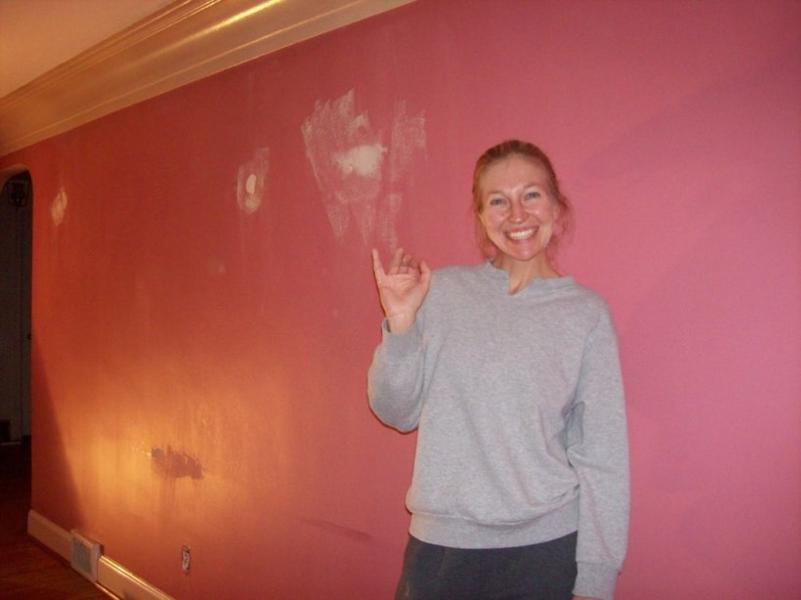person: (370, 142, 630, 600)
